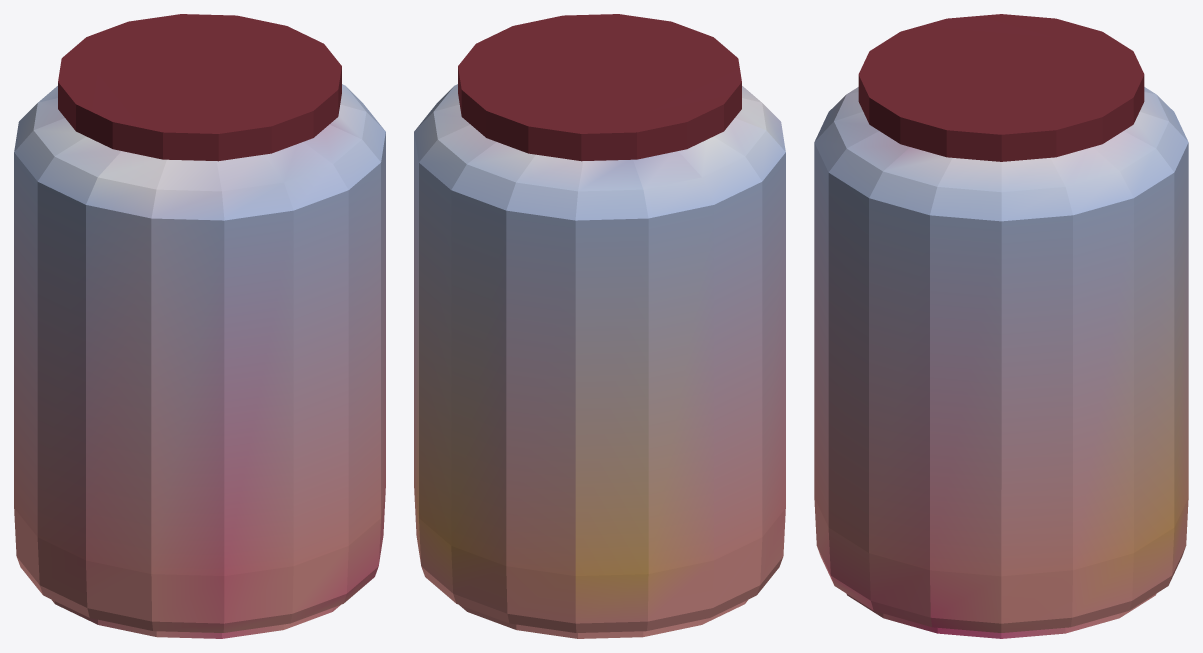
The model's file is test_vc_fairyjar.fbx.
The picture shows the model from 3 angles, left to right: view 1: azimuth 30°, elevation 25°; view 2: azimuth 150°, elevation 25°; view 3: azimuth 270°, elevation 25°; orthographic projection.
Visible parts, largest first — view 1: Circle; view 2: Circle; view 3: Circle.
Part boxes in pixels (x1,y1,x2,y2): Circle: [14, 14, 385, 638]; Circle: [414, 14, 785, 638]; Circle: [814, 14, 1188, 638].
Size of the model in its own units: 224 by 326 by 224.
